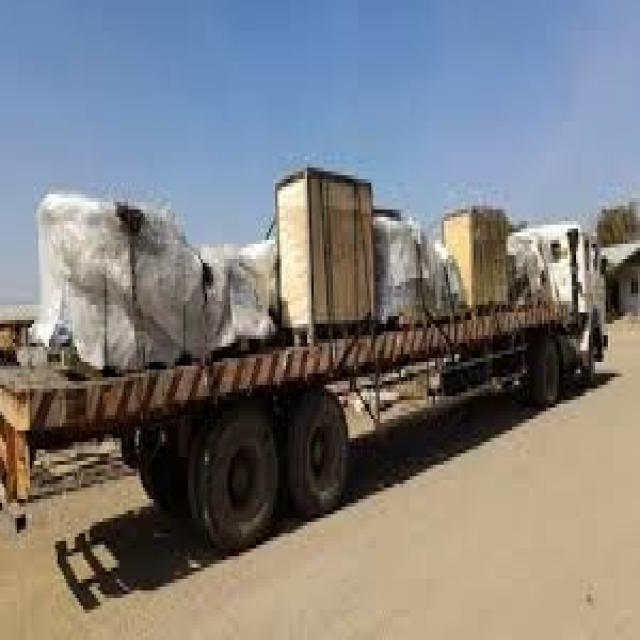uncovered: (10, 166, 608, 546)
